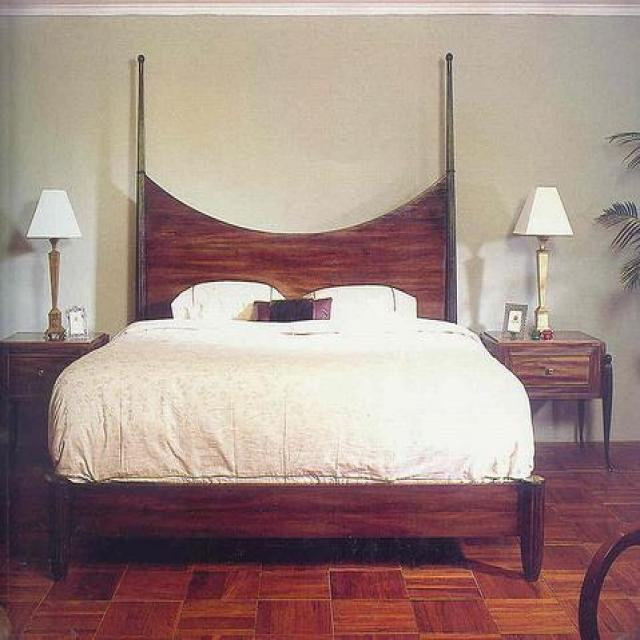bed: (43, 52, 545, 582)
table: (478, 328, 614, 470)
